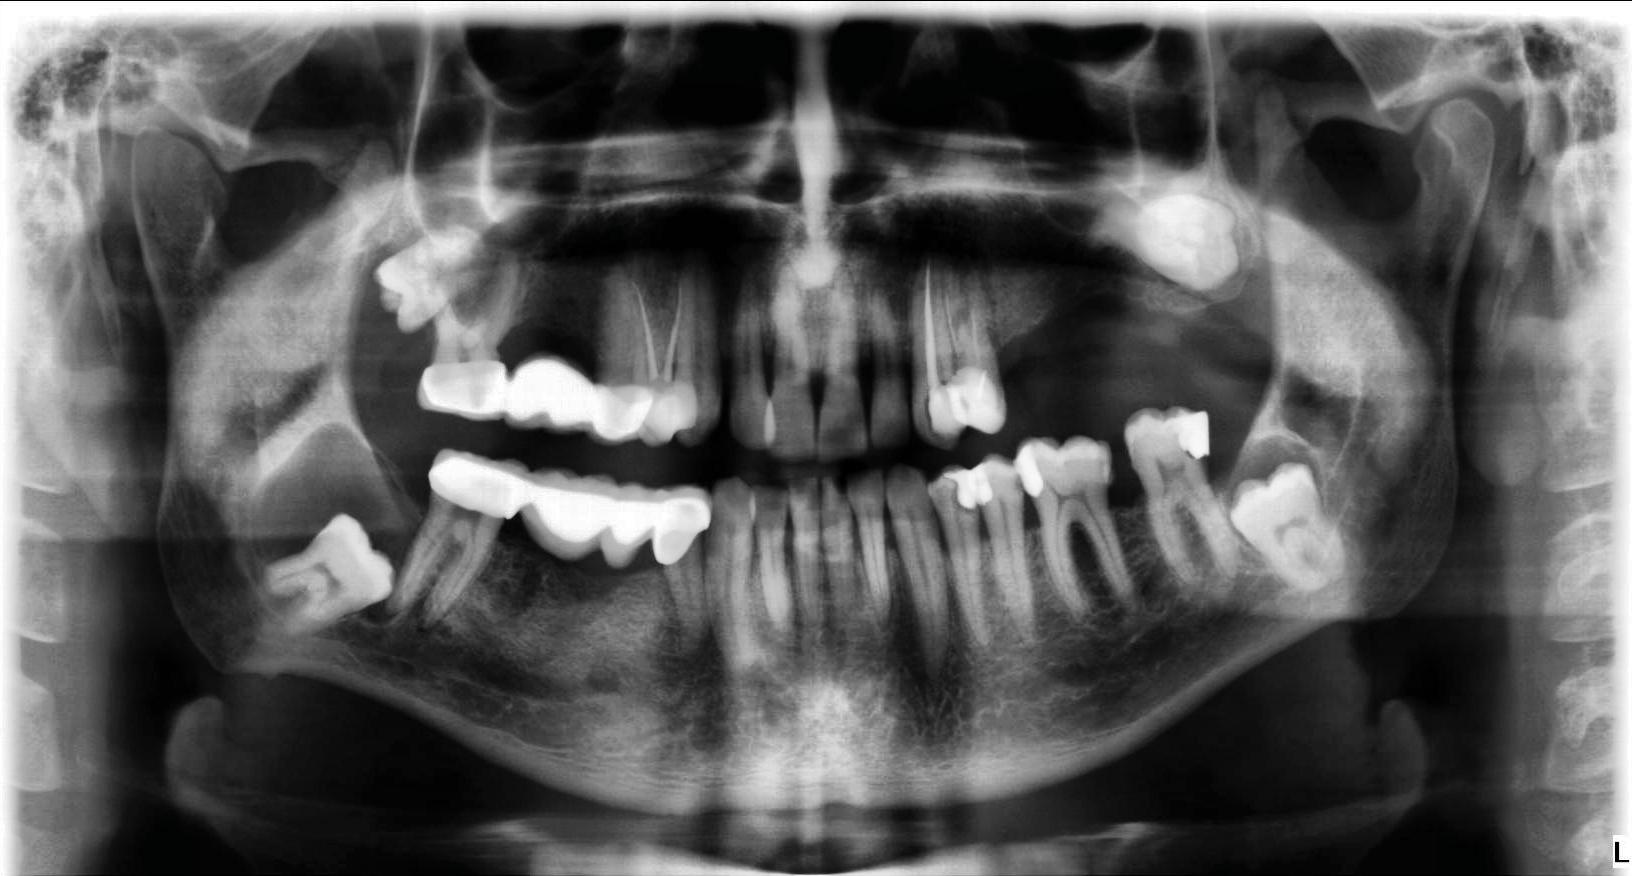dentigerous: (245, 418, 420, 629)
